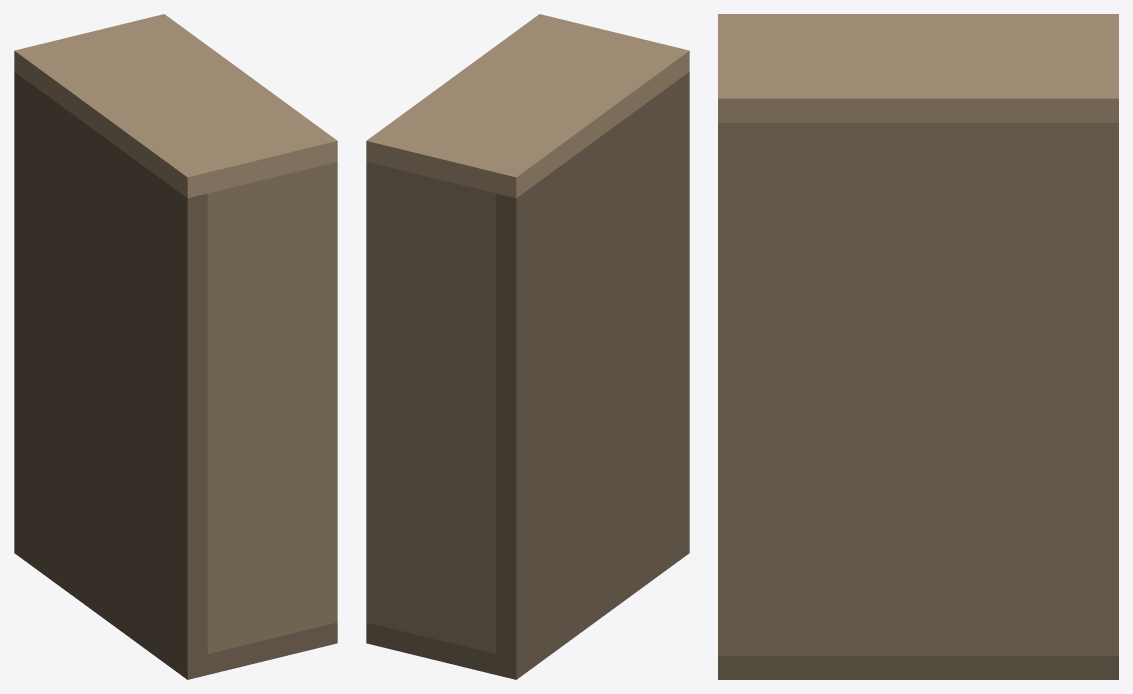
Rendered from estanteria_desgastada_01.glb.
The picture shows the model from 3 angles, left to right: view 1: azimuth 30°, elevation 25°; view 2: azimuth 150°, elevation 25°; view 3: azimuth 270°, elevation 25°; orthographic projection. The views are drawn at different scales.
Parts seen in each view (by area): view 1: estanteria_desgastada; view 2: estanteria_desgastada; view 3: estanteria_desgastada.
Boxes of the visible parts, x1,y1,x2,y2 form: estanteria_desgastada: (14,14,337,679); estanteria_desgastada: (366,14,689,679); estanteria_desgastada: (718,14,1118,679).
Size of the model in its own units: 1 by 3.2 by 2.
